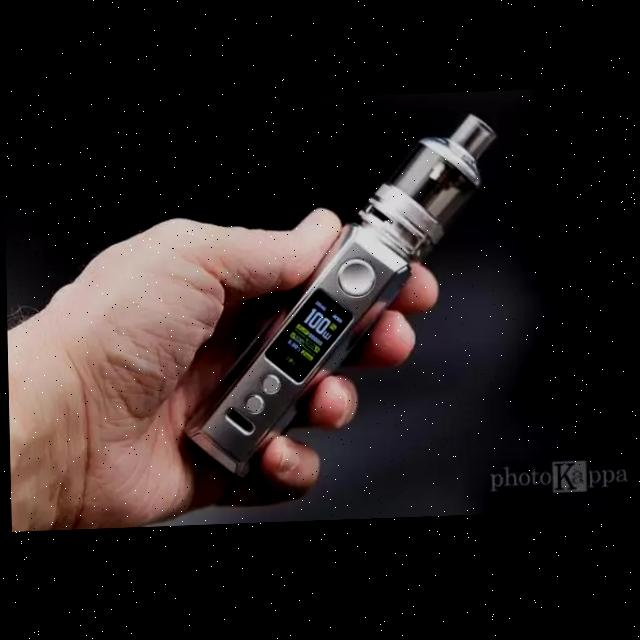vape: (174, 115, 503, 482)
